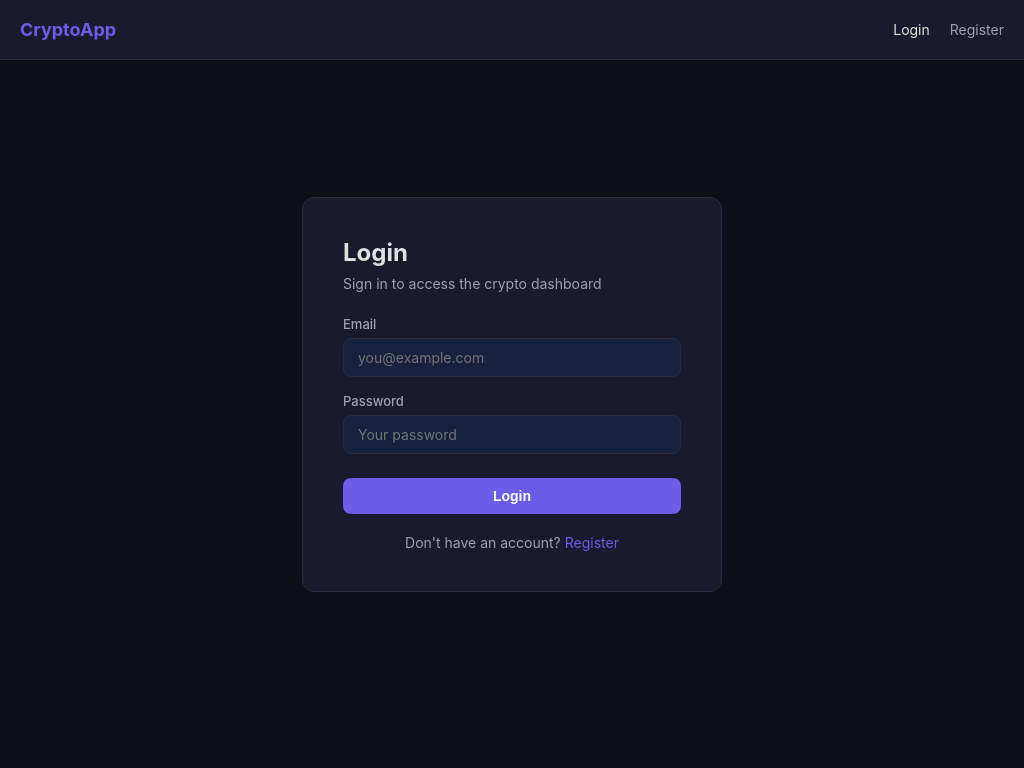
Scenario: Authentication › should show error for invalid credentials
Type "wrong@example.com" into the field labelled "Email" at [512, 358], box x1=343 y1=338 x2=681 y2=377
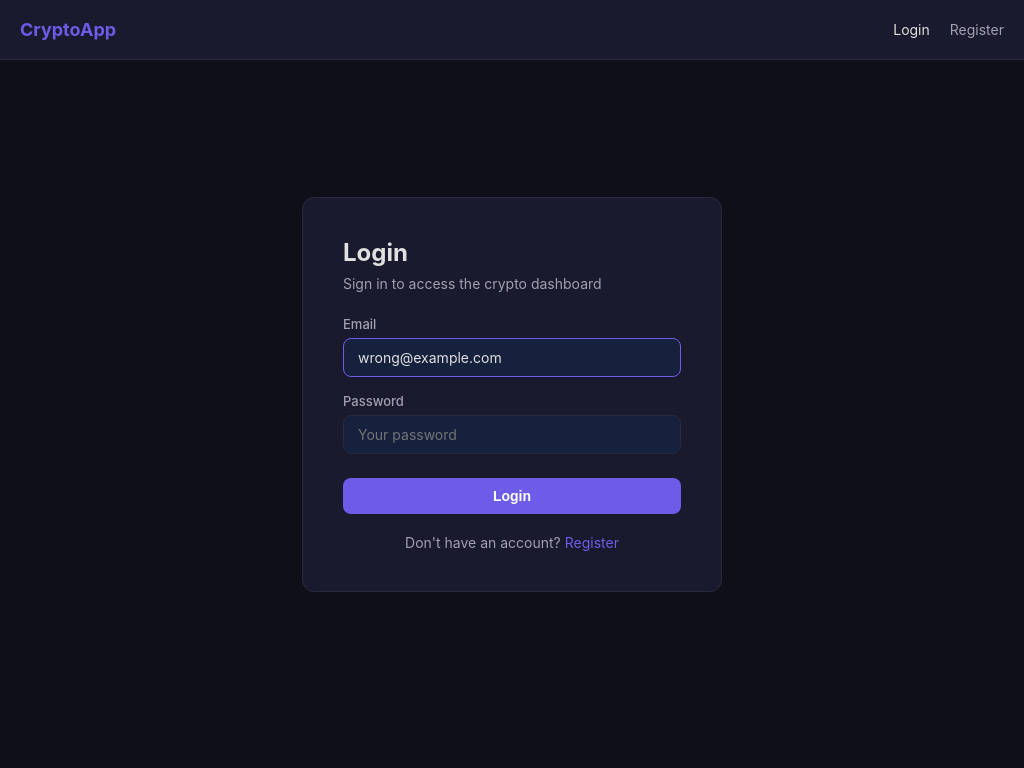
Type "wrongpassword" into the password field labelled "Password" at [512, 435], box x1=343 y1=415 x2=681 y2=454
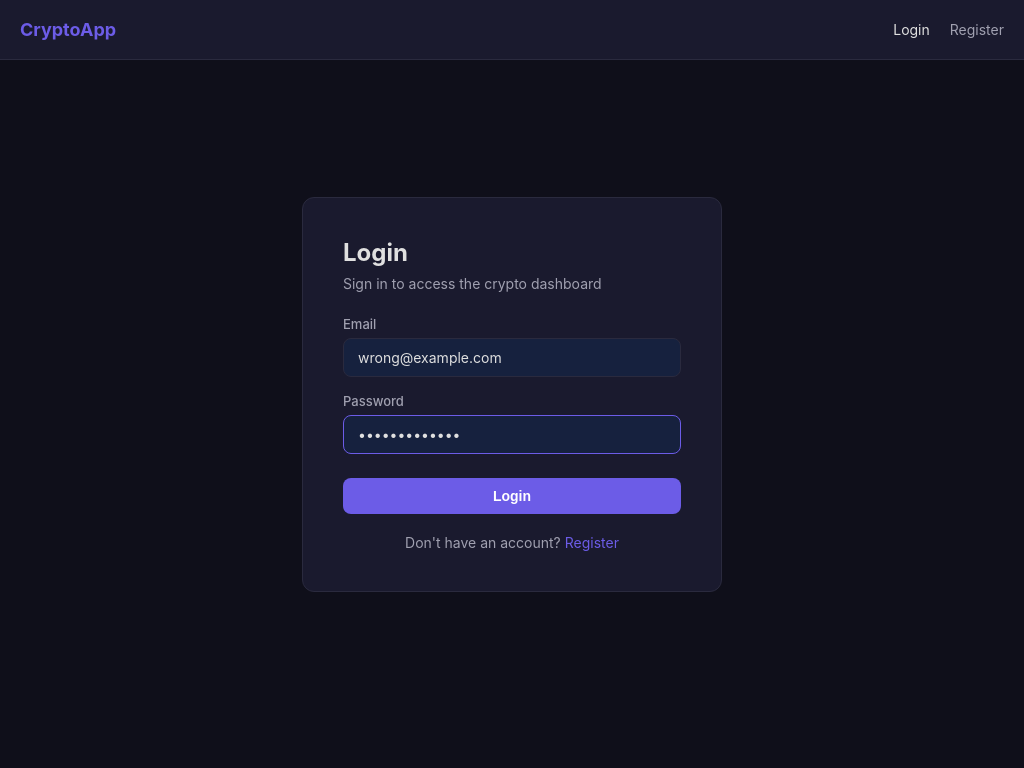
Click the submit button at [512, 496], box x1=343 y1=478 x2=681 y2=514
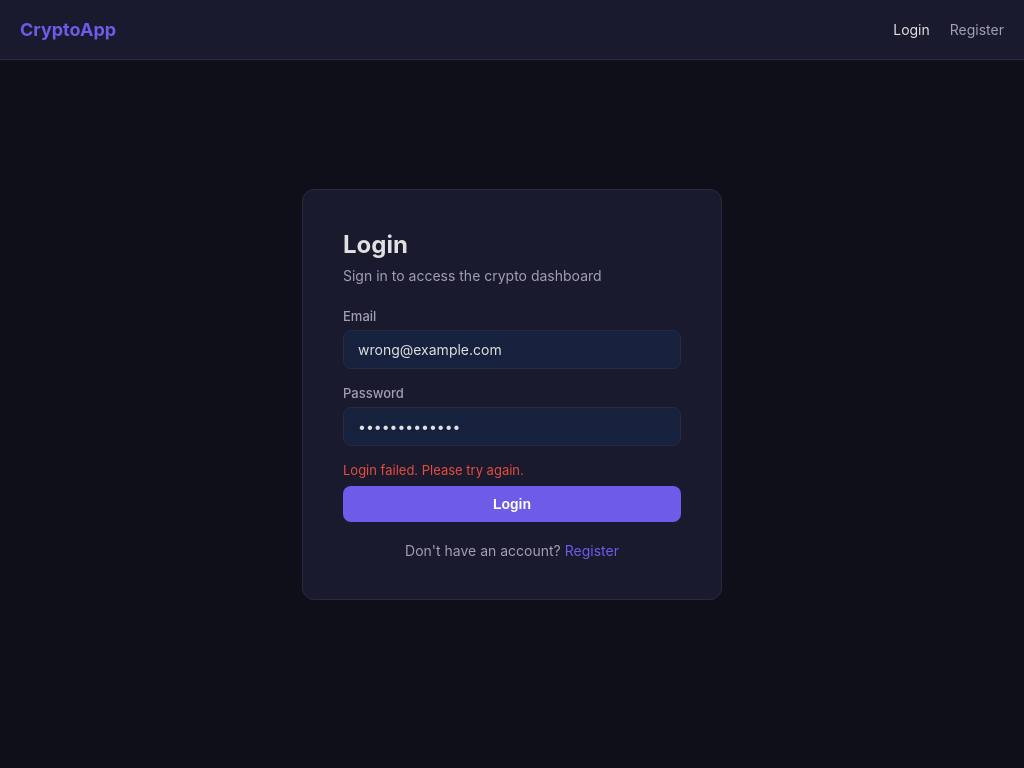
expect the text "Login failed. Please try again." is shown: met, box x1=343 y1=462 x2=524 y2=478
